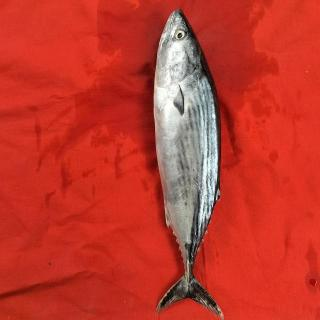Ikan: (145, 7, 229, 320)
